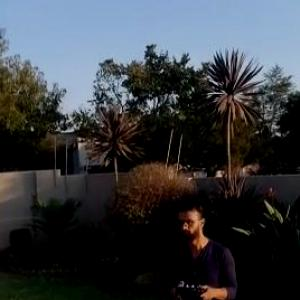follow: (161, 192, 240, 299)
